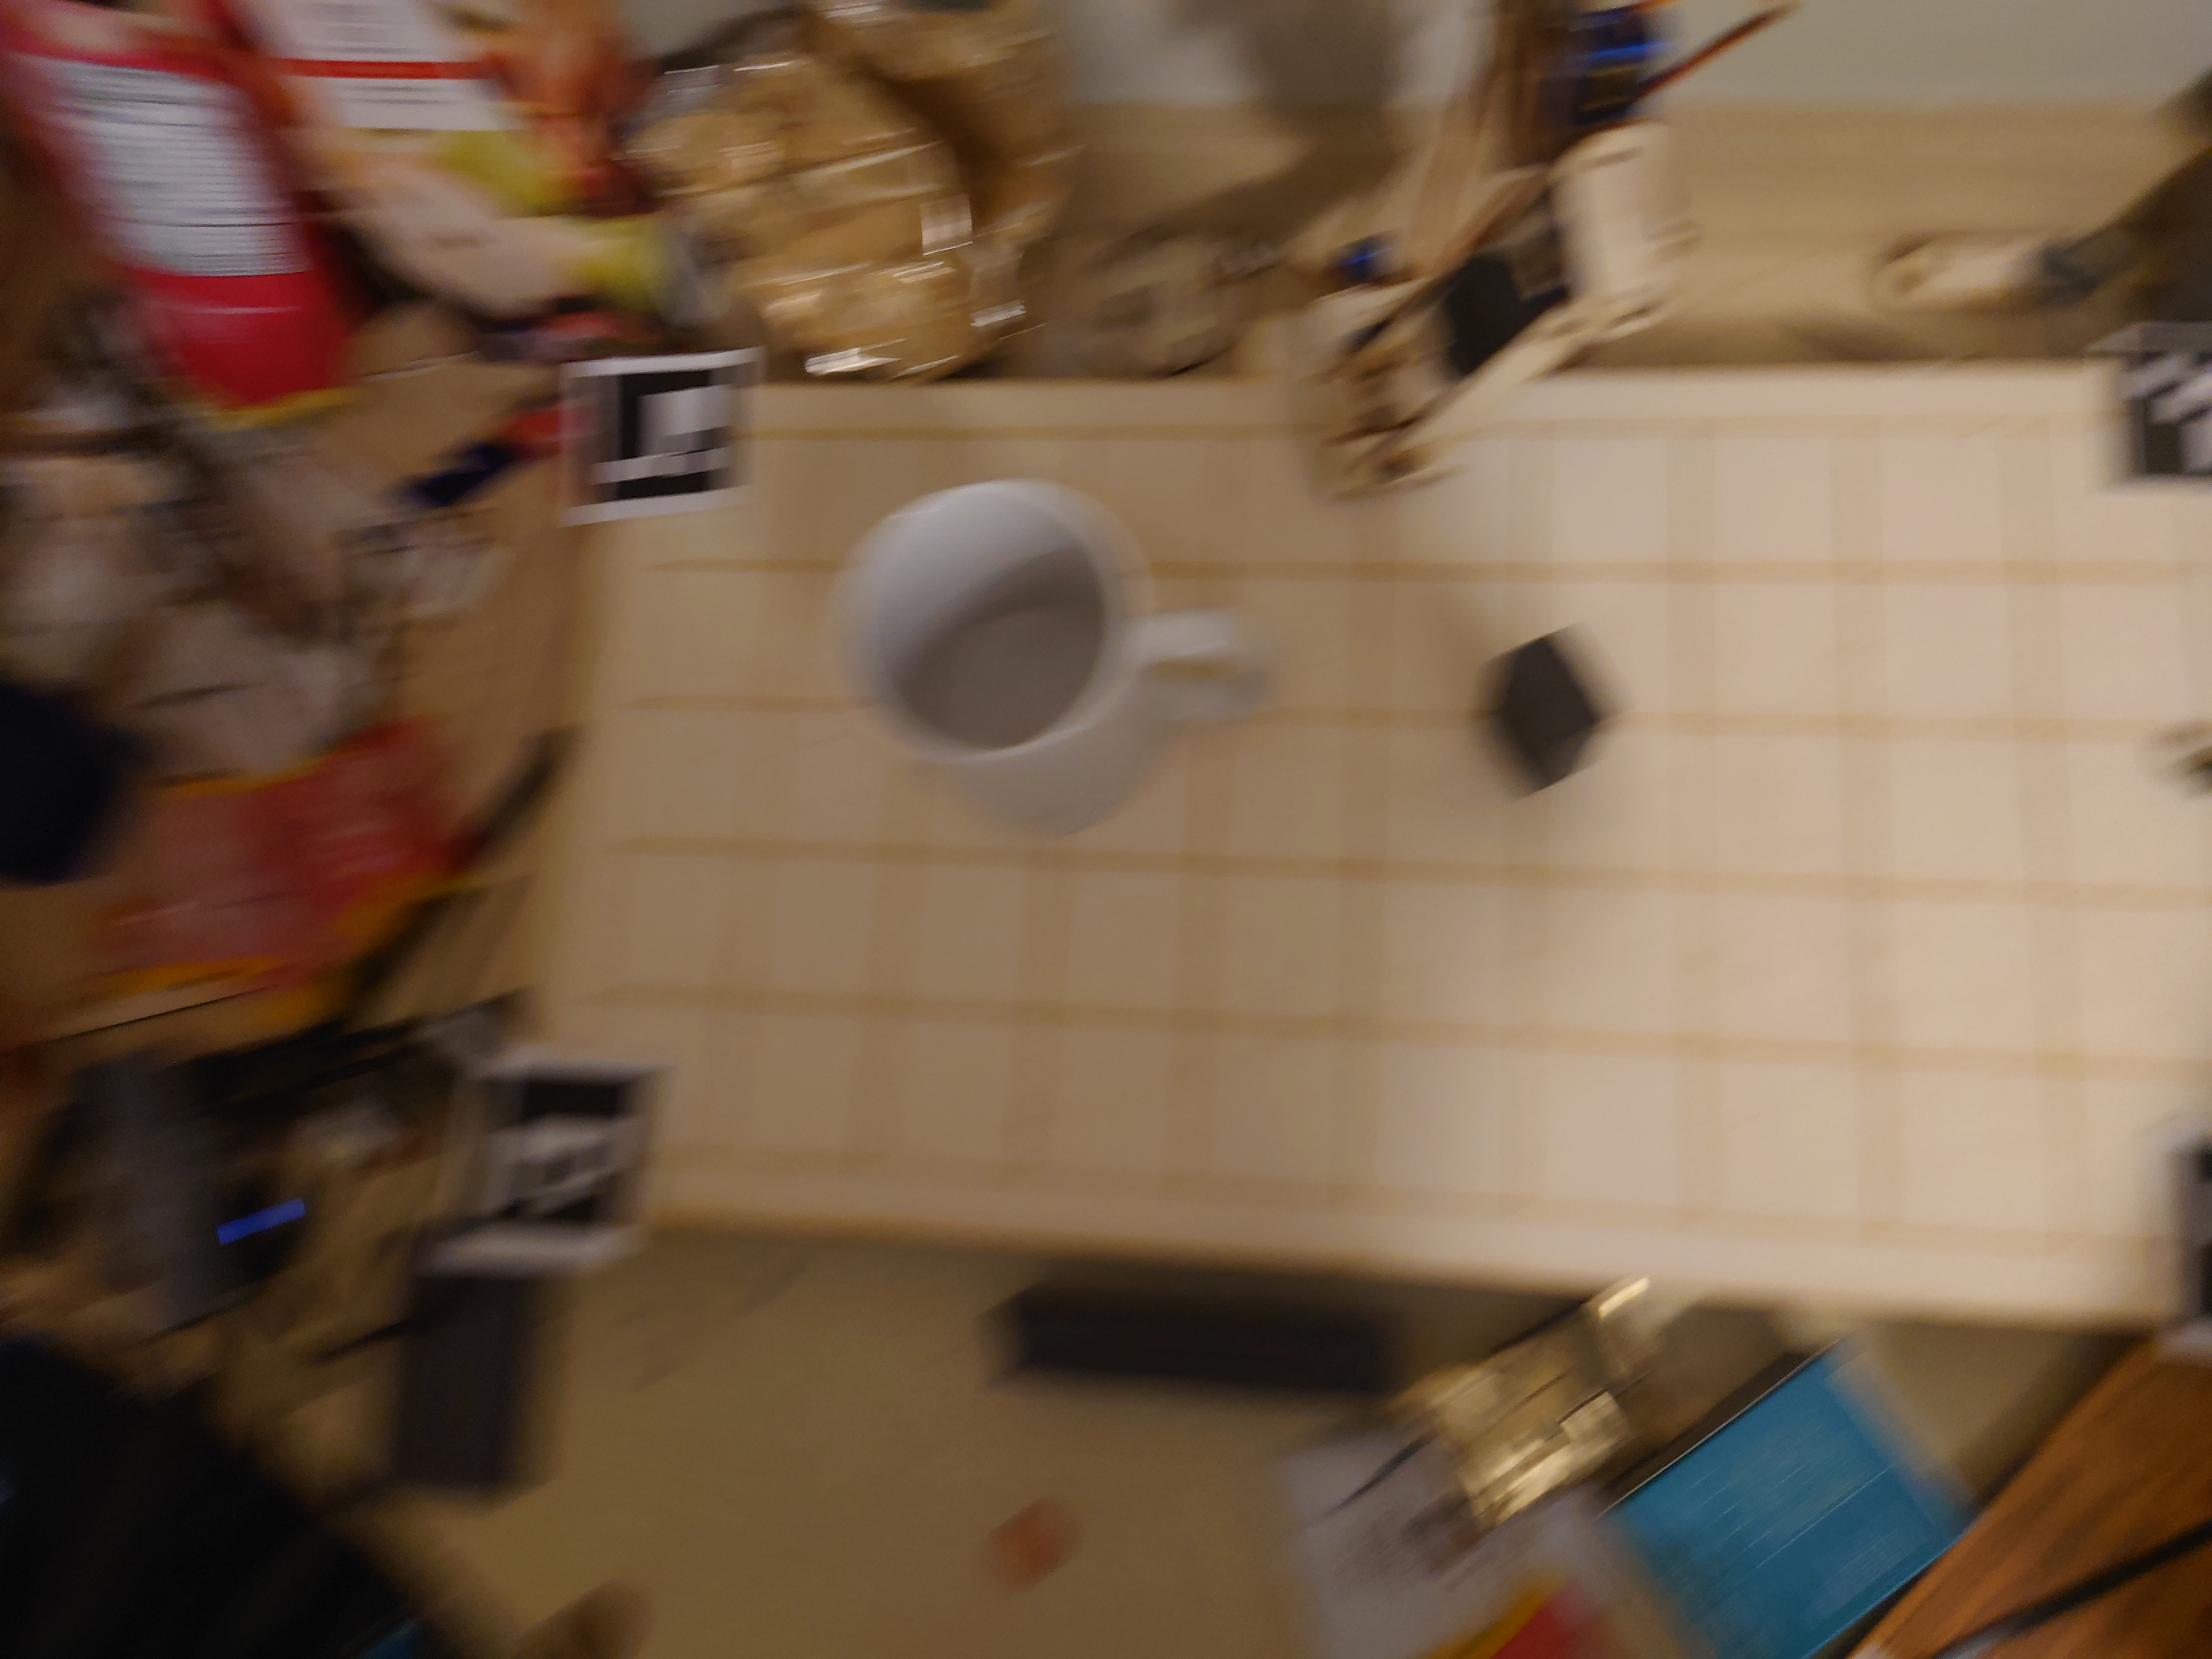cup: (826, 479, 1285, 847)
target: (1472, 631, 1604, 800)
